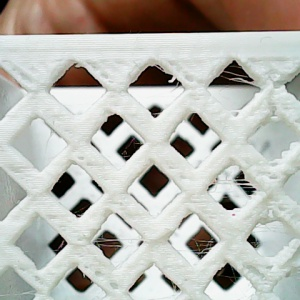3dpstringing: (92, 234, 147, 257), (206, 175, 261, 198), (173, 236, 220, 261), (246, 217, 289, 244), (216, 73, 260, 90), (4, 284, 40, 299), (42, 128, 61, 152), (162, 280, 181, 298), (52, 237, 68, 255), (167, 74, 181, 93), (72, 212, 86, 223)
3dpunderextrusion: (260, 160, 300, 221), (244, 245, 299, 289), (261, 72, 293, 123), (167, 59, 209, 86), (83, 264, 124, 291), (87, 59, 122, 90), (74, 151, 105, 176)
